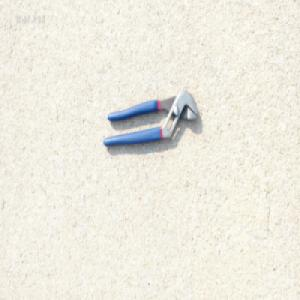Pliers: (101, 88, 199, 147)
